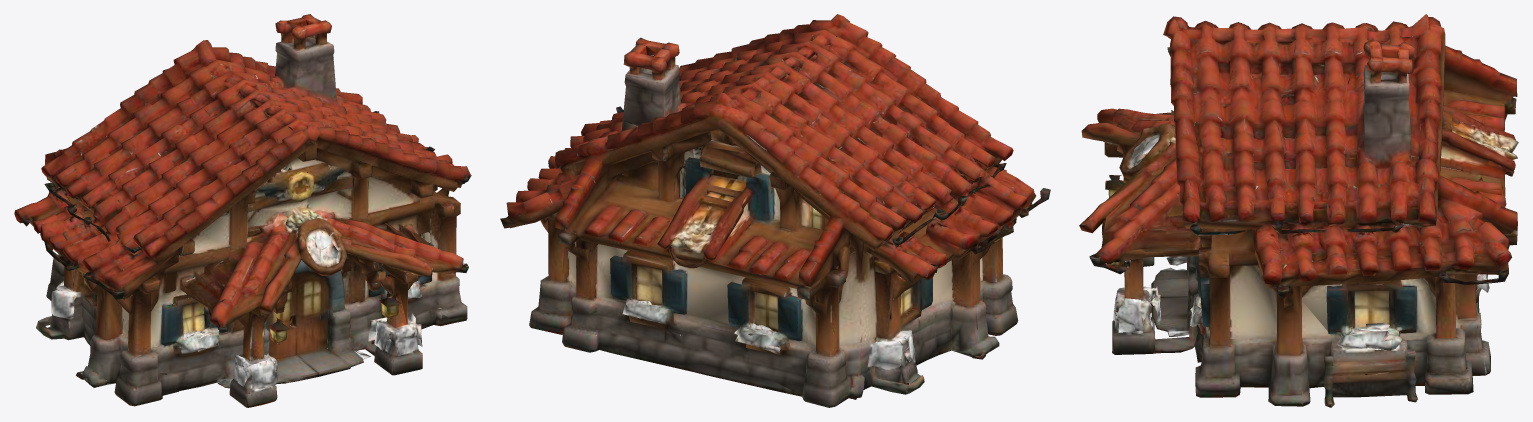
File: rush_station.glb
3 renders of one model, left to right at view 1: azimuth 30°, elevation 25°; view 2: azimuth 150°, elevation 25°; view 3: azimuth 270°, elevation 25°, orthographic. The views are drawn at different scales.
Parts seen in each view (by area): view 1: alpine__rush_station__neural_lod; view 2: alpine__rush_station__neural_lod; view 3: alpine__rush_station__neural_lod.
Part boxes in pixels (<box>): alpine__rush_station__neural_lod: <box>14,14,471,407</box>; alpine__rush_station__neural_lod: <box>500,14,1050,407</box>; alpine__rush_station__neural_lod: <box>1079,14,1518,407</box>.
Size of the model in its own units: 0.9981 by 0.6169 by 0.7977.
Materials: 1 (1 with a texture image).
